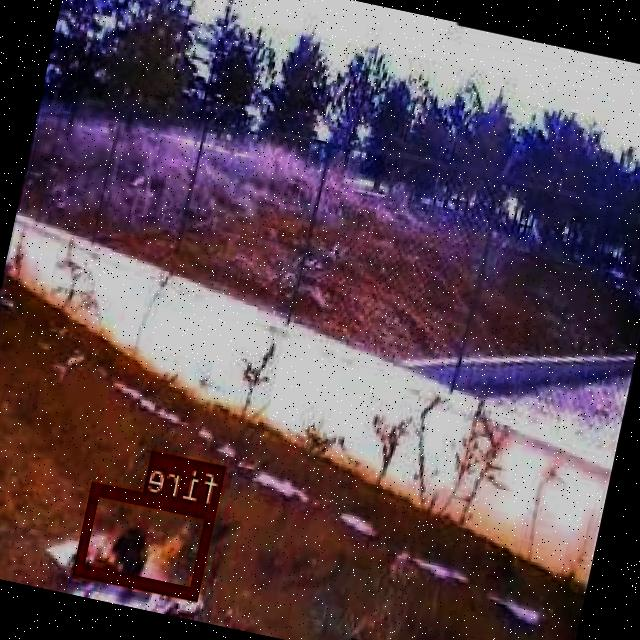fire: (76, 480, 218, 598)
